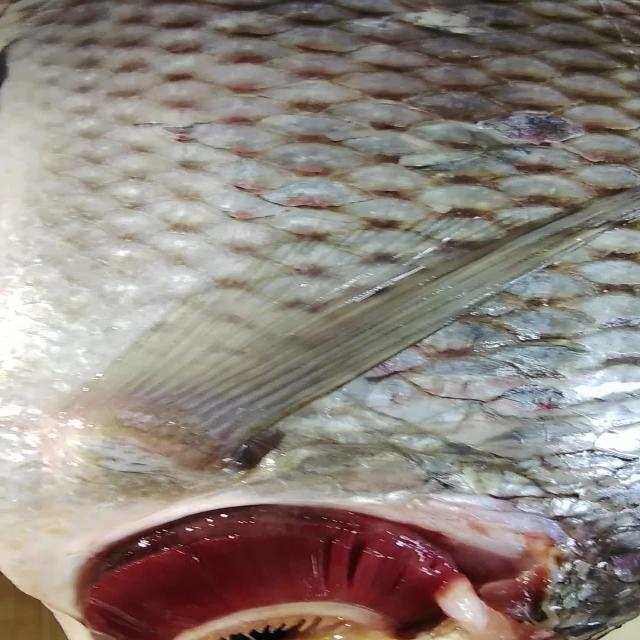Fresh: (43, 504, 480, 638)
